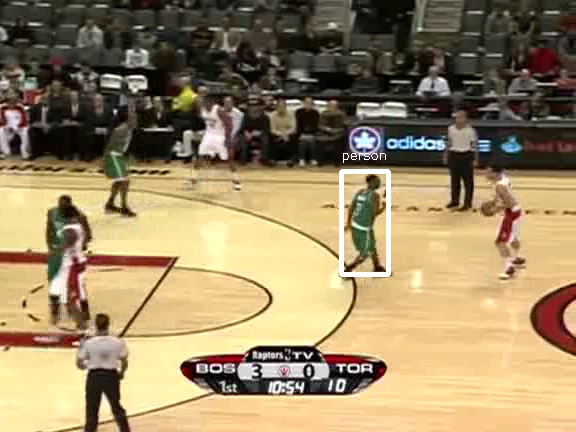person: (348, 182, 382, 263), (347, 182, 381, 263), (349, 182, 383, 263), (348, 181, 382, 262), (348, 183, 382, 264)
target_negative: (62, 194, 242, 391), (20, 211, 182, 406), (297, 250, 445, 385), (538, 318, 555, 406), (429, 345, 549, 357), (452, 325, 536, 328)
